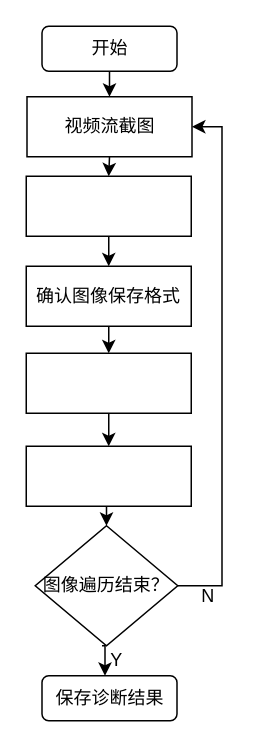
The diagram is 261 pixels wide and 747 high, and some of its shapes have lost their labels. The shapes that lost their labels are listed below. From the top down, each one's centre as x and y in pixels, then its label:
At (108,205): "定义压缩尺寸".
At (108,382): "图像压缩算法".
At (108,475): "图像诊断算法".
